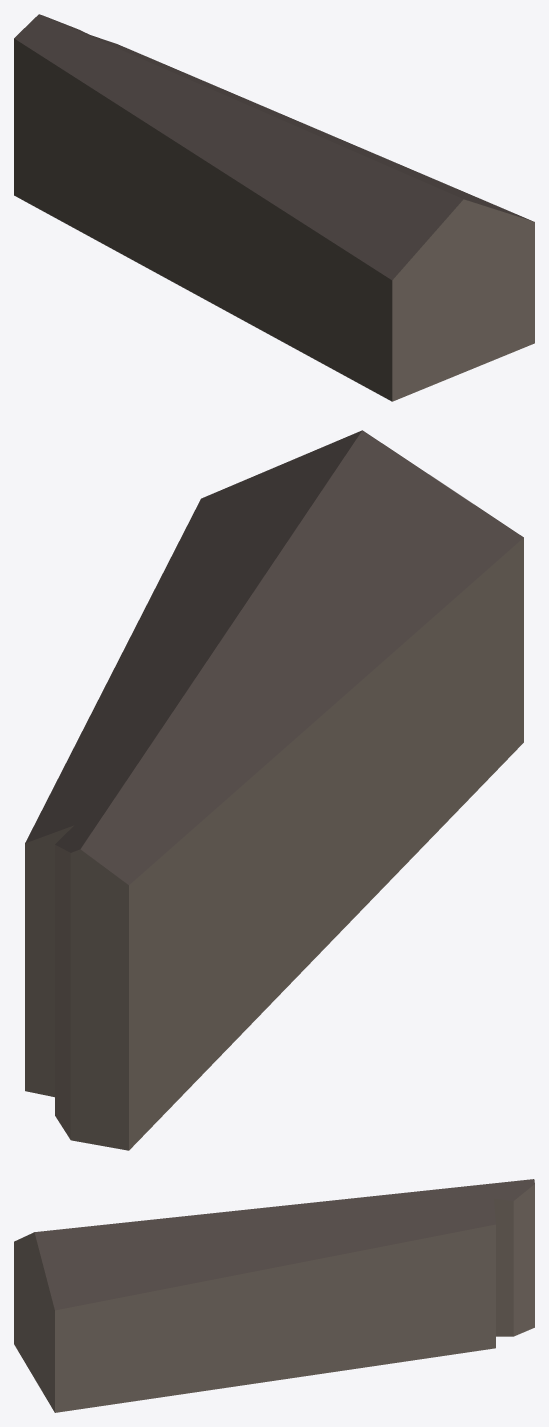
3 views of the same model, one above another, from view 1: azimuth 30°, elevation 25°; view 2: azimuth 150°, elevation 25°; view 3: azimuth 270°, elevation 25° (orthographic). The views are drawn at different scales.
Parts seen in each view (by area): view 1: HP-w776800981; view 2: HP-w776800981; view 3: HP-w776800981.
Boxes of the visible parts, box(x1,y1,x2,y2) form: HP-w776800981: box(14, 14, 534, 401); HP-w776800981: box(25, 430, 523, 1150); HP-w776800981: box(14, 1179, 534, 1412).
Size of the model in its own units: 18.57 by 12.86 by 41.47.
